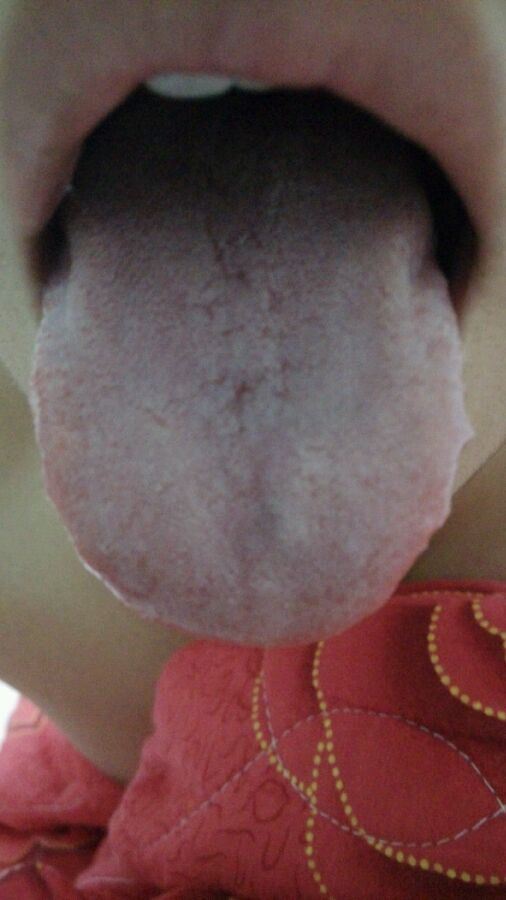baitaishe: (32, 86, 466, 639)
liewenshe: (186, 156, 271, 332)
